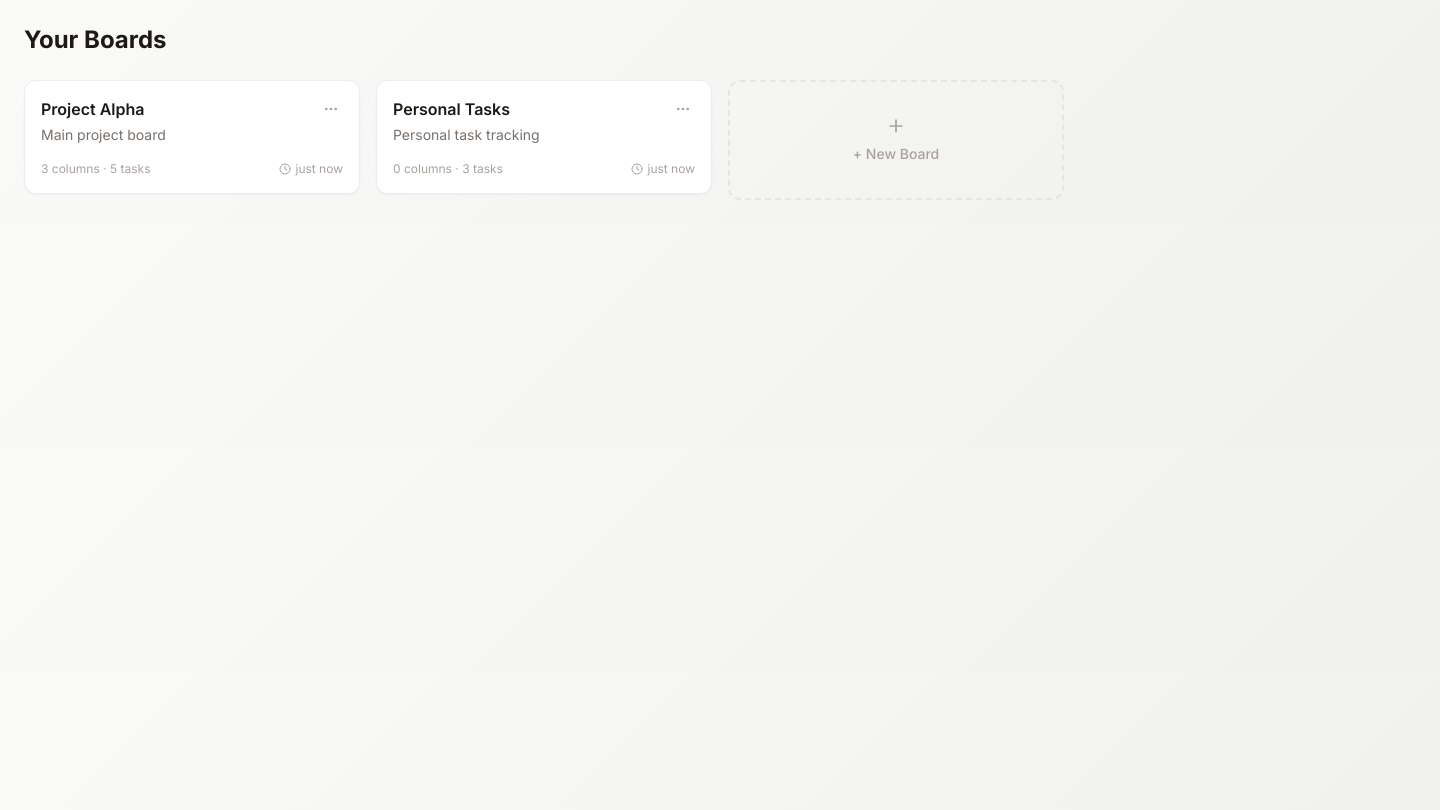
BoardList › error handling › shows error message on create failure
The width and height of the screenshot is (1440, 810).
Expected: the heading "Project Alpha" is shown, [41,99,144,119]
Click the button with test id "ghost-card" at (896, 154), box [728,80,1064,200]
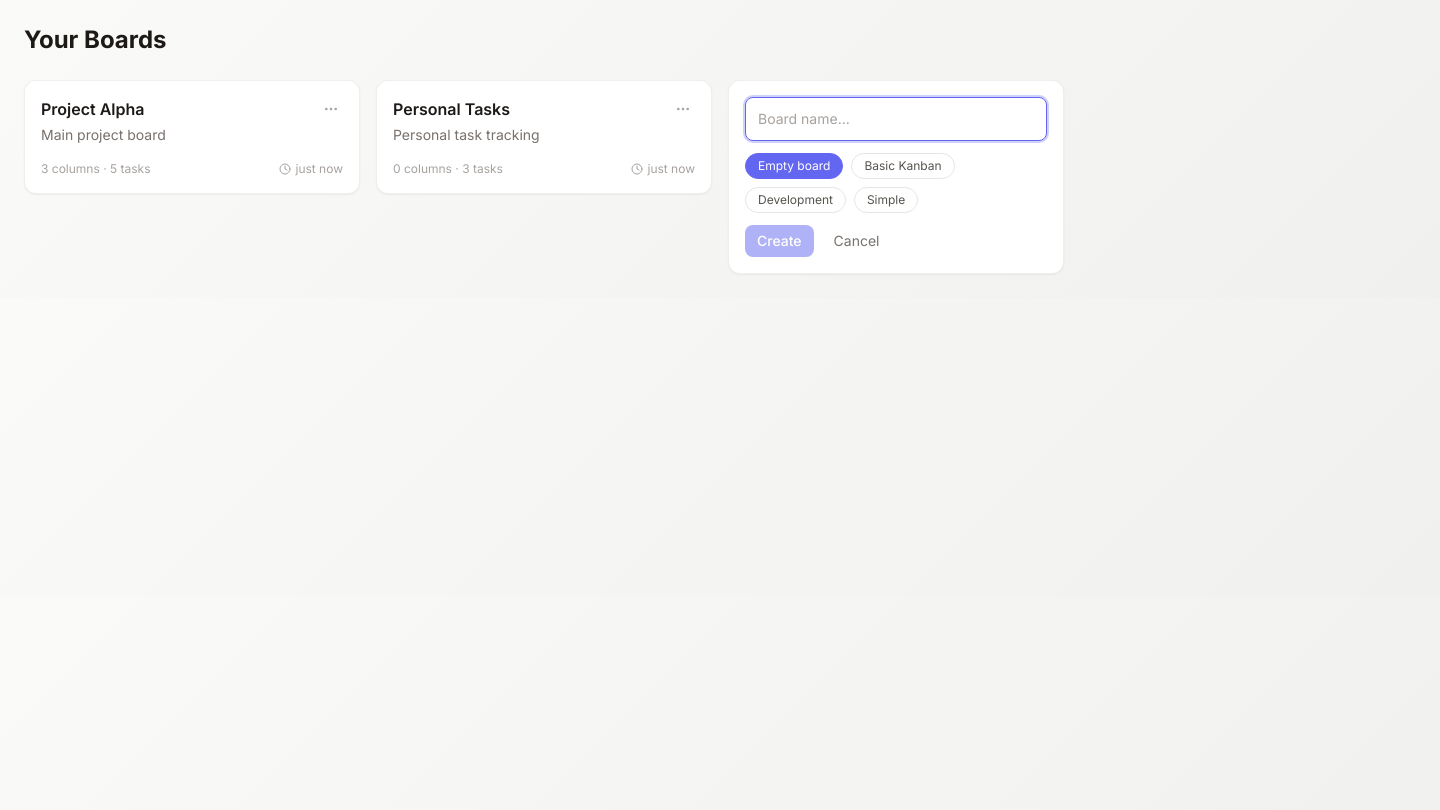
Type "Duplicate Board" into the field with placeholder "Board name..." at (896, 119), box [745,97,1047,141]
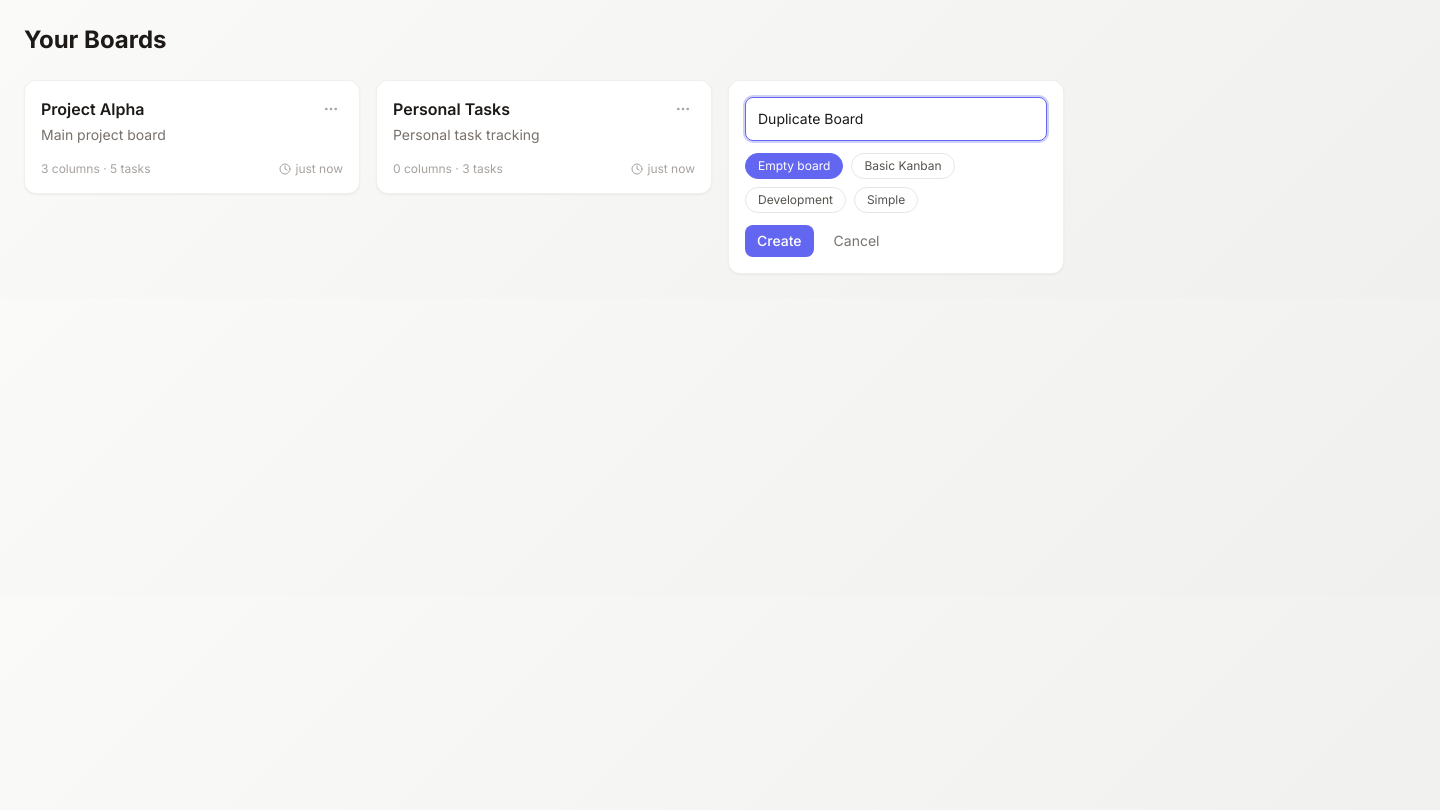
Click the button "Create" at (779, 241), box [745,225,814,257]
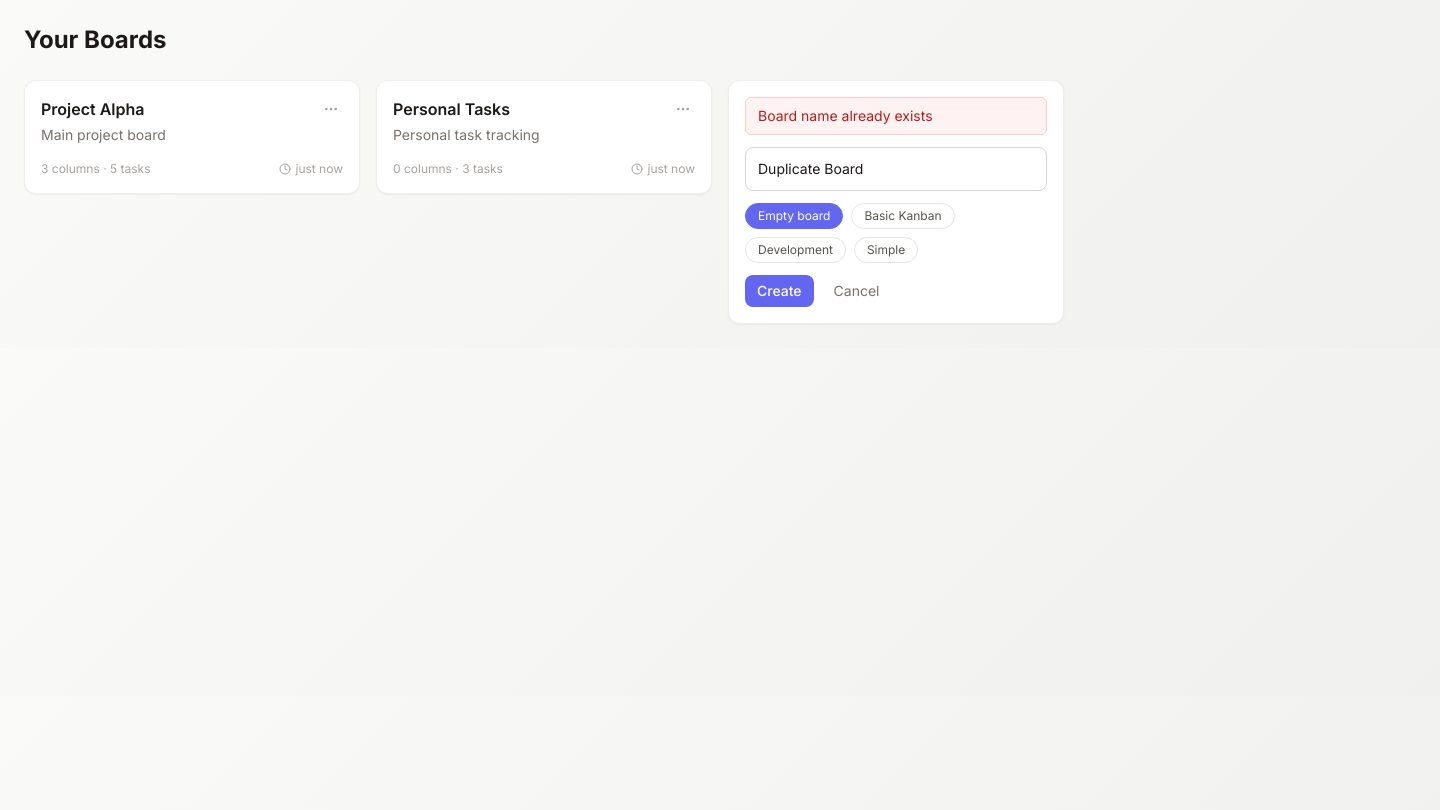
Result: the text "Board name already exists" is shown at [745,97,1047,135]
